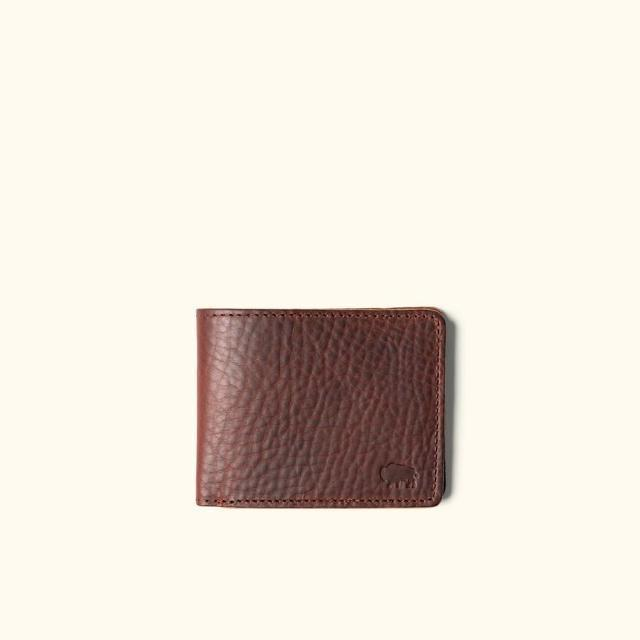wallet: (192, 302, 446, 510)
